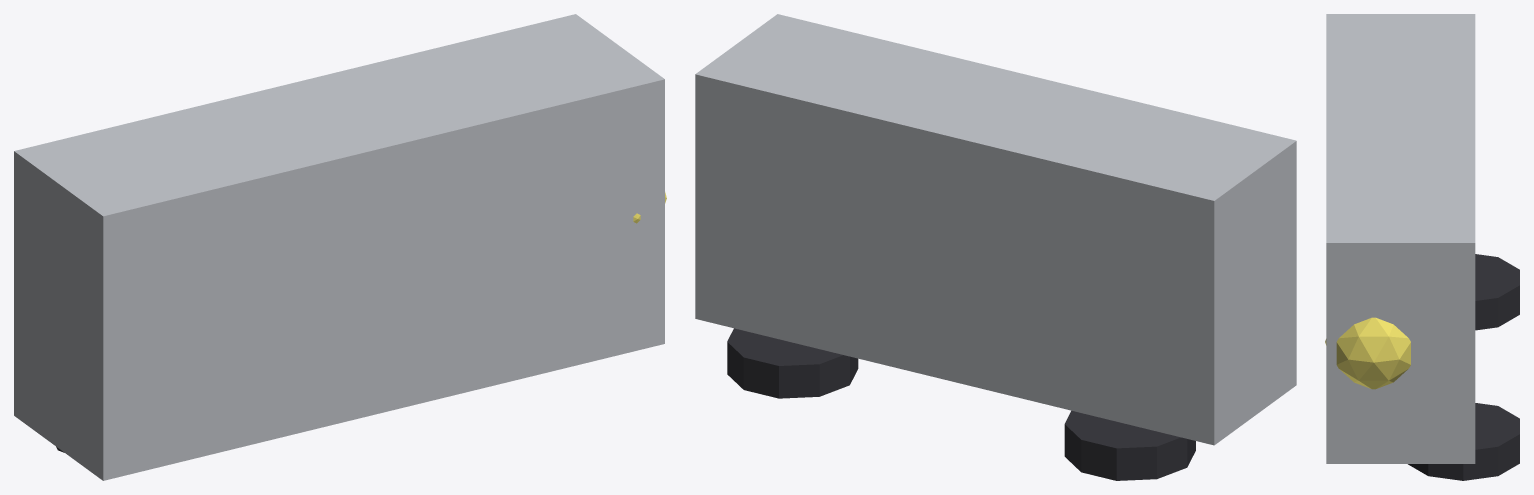
File: hover_sled.glb
The picture shows the model from 3 angles, left to right: view 1: azimuth 30°, elevation 25°; view 2: azimuth 150°, elevation 25°; view 3: azimuth 270°, elevation 25°; orthographic projection. The views are drawn at different scales.
Parts seen in each view (by area): view 1: vehicle_body; view 2: vehicle_body, wheel_a, wheel_b; view 3: vehicle_body, engine_glow, wheel_b, wheel_a.
Boxes of the visible parts, box(x1,y1,x2,y2) form: vehicle_body: box(14, 14, 664, 480); vehicle_body: box(695, 14, 1296, 445); wheel_a: box(1064, 410, 1195, 480); wheel_b: box(727, 328, 858, 398); vehicle_body: box(1326, 14, 1475, 463); engine_glow: box(1325, 317, 1410, 389); wheel_b: box(1408, 403, 1519, 480); wheel_a: box(1475, 254, 1519, 330).
Size of the model in its own units: 2.08 by 1.03 by 0.7192.
